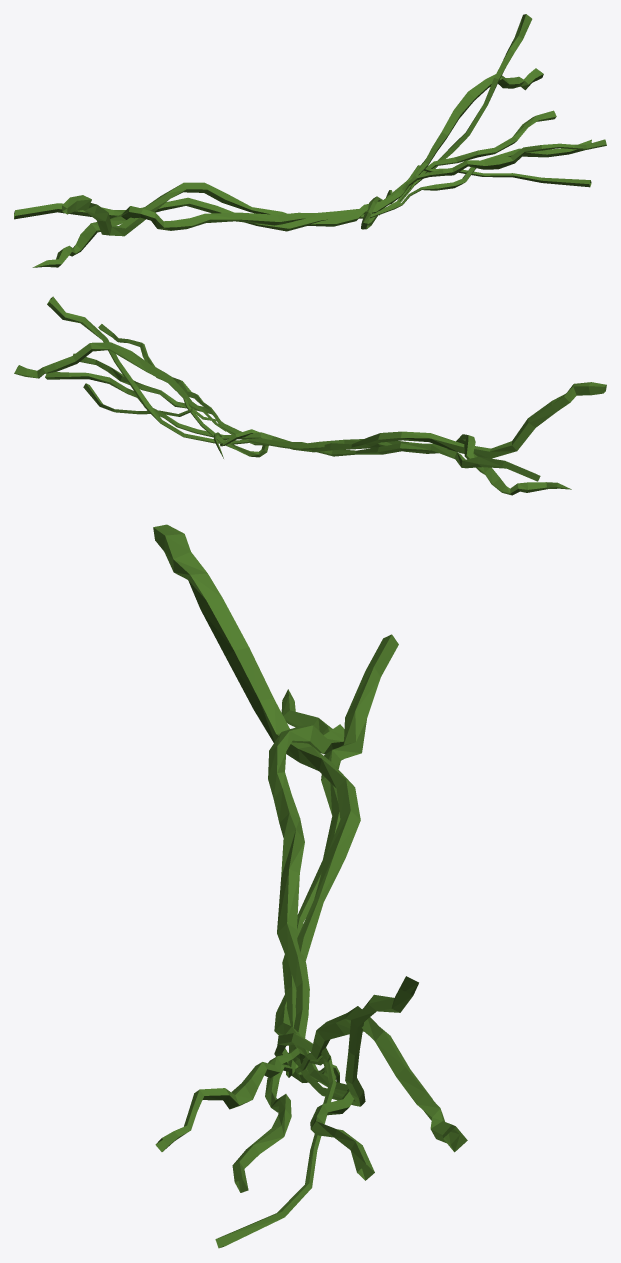
Rendered from ZLPC_Plant_Vine_B_10.FBX.
3 renders of one model, top to bottom at view 1: azimuth 30°, elevation 25°; view 2: azimuth 150°, elevation 25°; view 3: azimuth 270°, elevation 25°, orthographic. The views are drawn at different scales.
Parts seen in each view (by area): view 1: ZLPC_Plant_Vine_B_10; view 2: ZLPC_Plant_Vine_B_10; view 3: ZLPC_Plant_Vine_B_10.
Part boxes in pixels (box(x1,y1,x2,y2)): ZLPC_Plant_Vine_B_10: box(14, 14, 606, 267); ZLPC_Plant_Vine_B_10: box(14, 296, 606, 495); ZLPC_Plant_Vine_B_10: box(153, 524, 467, 1248).
Bounding box in the file's own units: 1176 × 300 × 309.
1 material, 1 textured.
